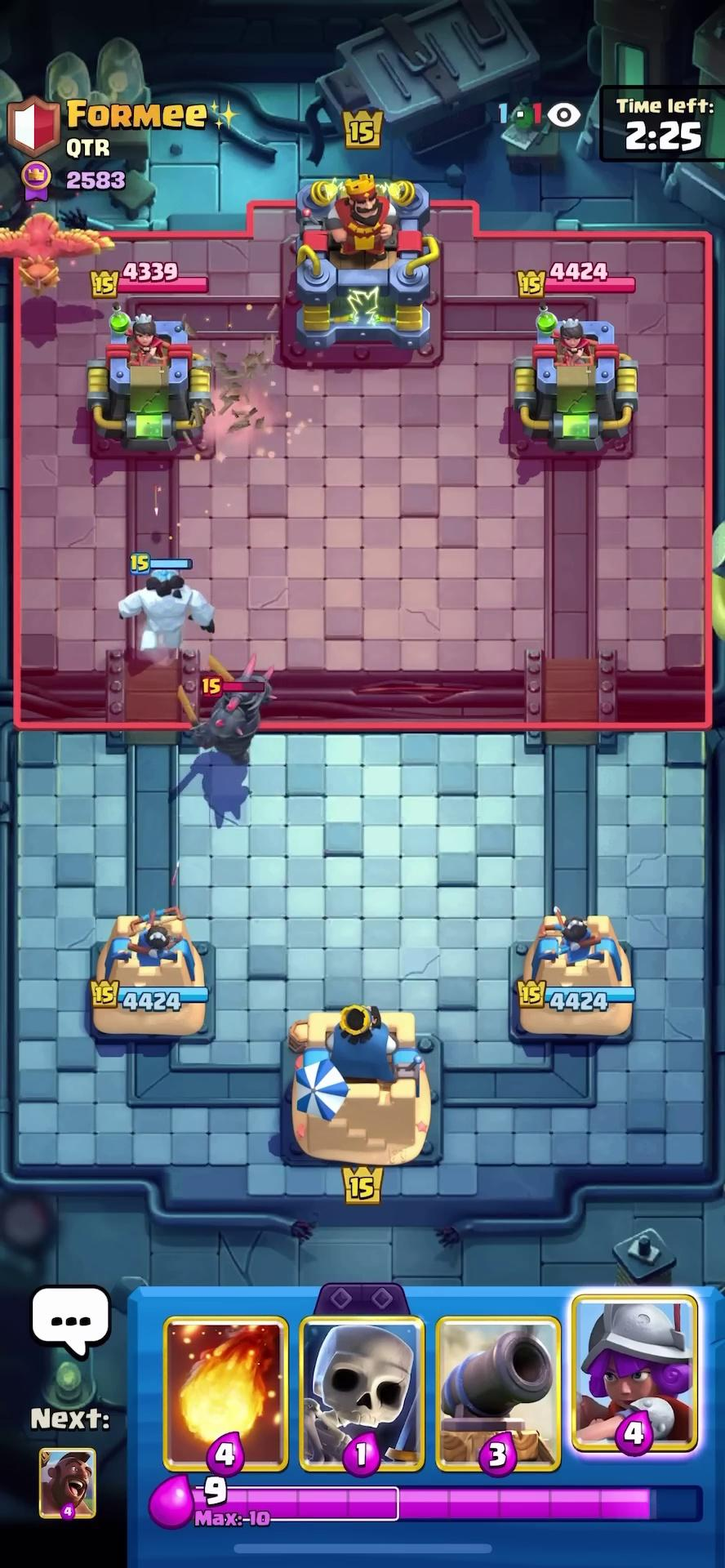ice_golem: (118, 551, 225, 655)
